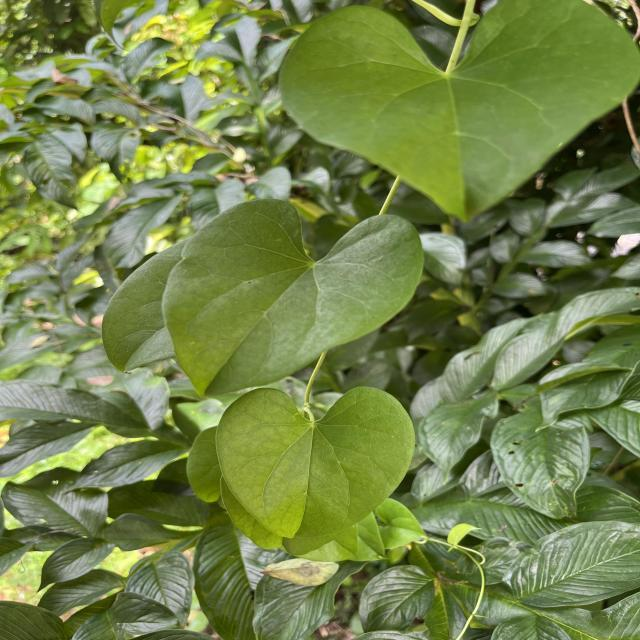Tinospora cordifolia: (273, 1, 640, 228), (159, 196, 427, 401), (212, 383, 420, 541)
